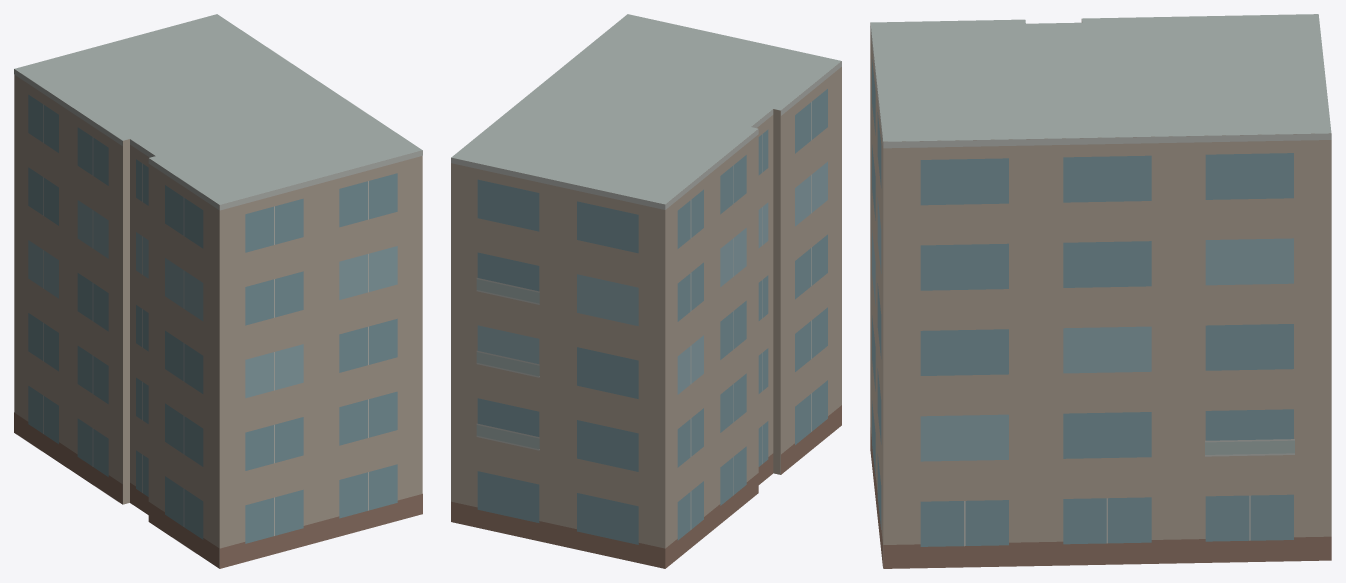
Rendered from survey-upis-33022497.glb.
The picture shows the model from 3 angles, left to right: view 1: azimuth 30°, elevation 25°; view 2: azimuth 150°, elevation 25°; view 3: azimuth 270°, elevation 25°; orthographic projection. The views are drawn at different scales.
Parts seen in each view (by area): view 1: survey-upis-33022497.tmp; view 2: survey-upis-33022497.tmp; view 3: survey-upis-33022497.tmp.
Part boxes in pixels (box(x1,y1,x2,y2)): survey-upis-33022497.tmp: box(14, 14, 422, 568); survey-upis-33022497.tmp: box(451, 14, 841, 568); survey-upis-33022497.tmp: box(870, 14, 1331, 568).
Size of the model in its own units: 10.28 by 16 by 15.67.
